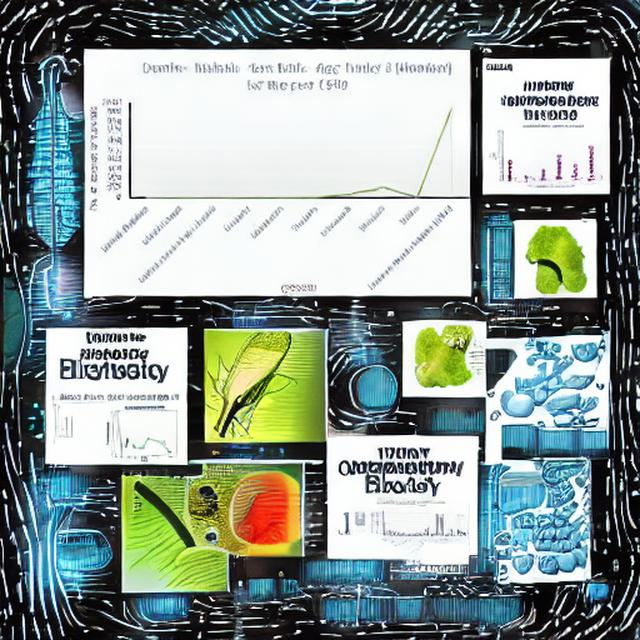Graph: (86, 50, 468, 294), (484, 122, 603, 191), (104, 402, 185, 463), (369, 500, 455, 551), (427, 402, 486, 436)
